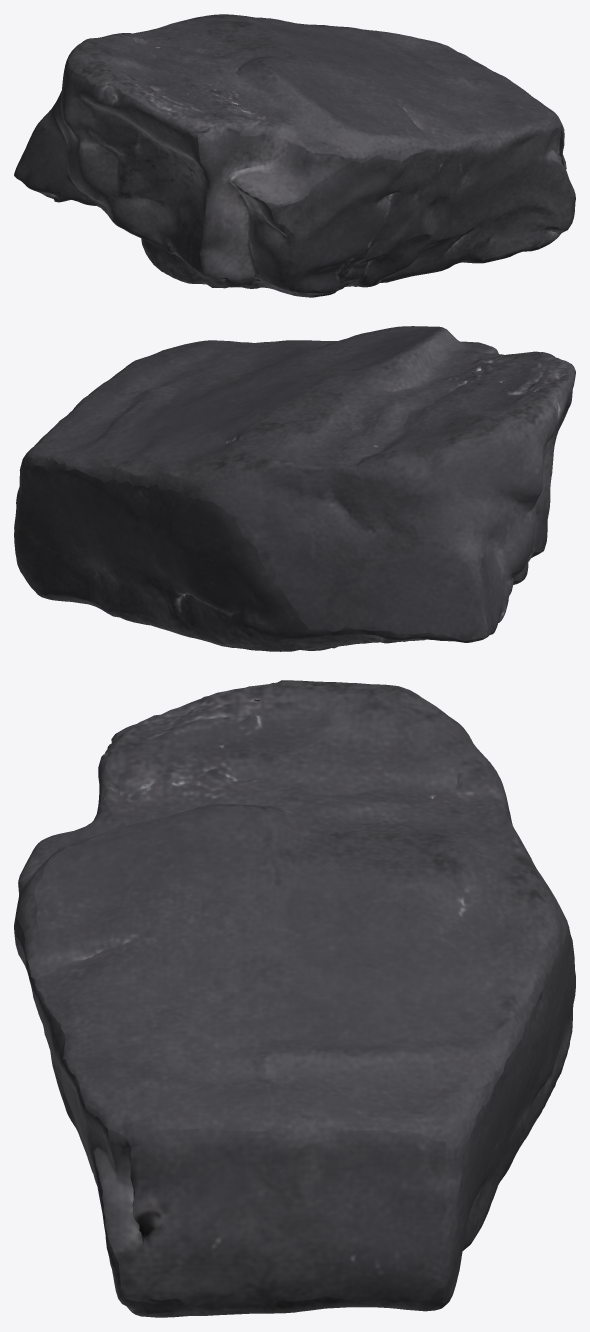
3 renders of one model, top to bottom at view 1: azimuth 30°, elevation 25°; view 2: azimuth 150°, elevation 25°; view 3: azimuth 270°, elevation 25°, orthographic. The views are drawn at different scales.
Parts seen in each view (by area): view 1: world; view 2: world; view 3: world.
Part boxes in pixels (<box>): world: <box>14,14,575,297</box>; world: <box>14,326,575,651</box>; world: <box>14,680,575,1317</box>.
Bounding box in the file's own units: 1.2 × 0.6017 × 0.8834.
Materials: 1 (1 with a texture image).
